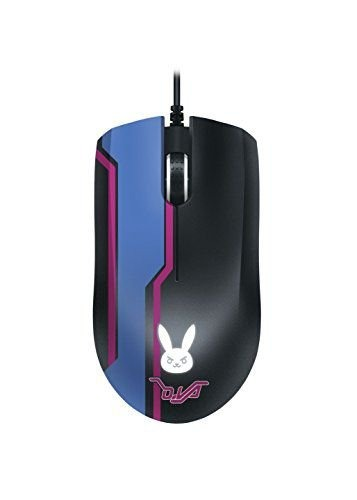mouse: (85, 108, 268, 426)
